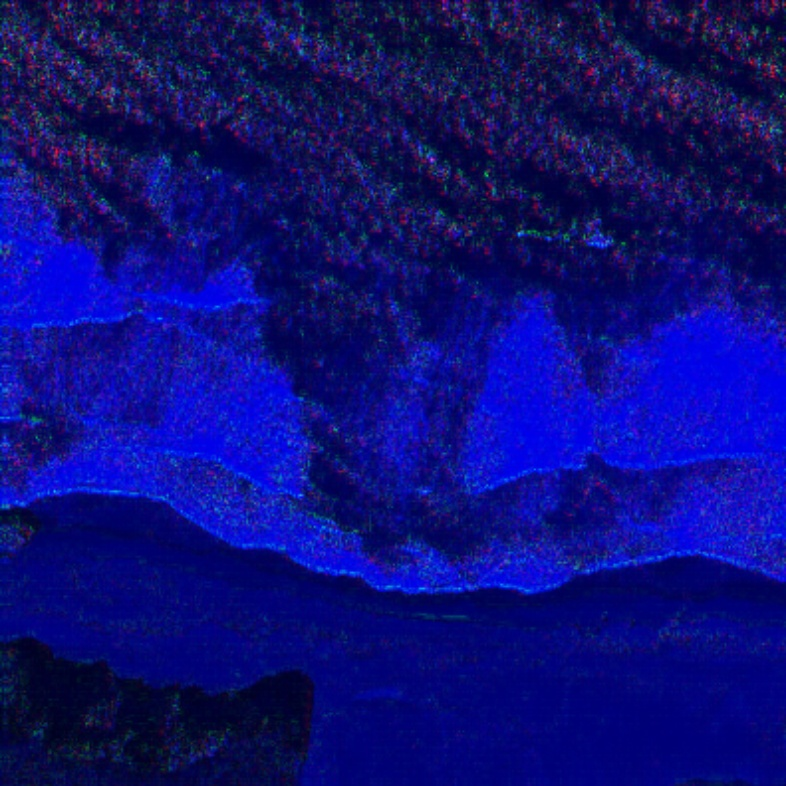rip_current: (226, 156, 523, 570)
